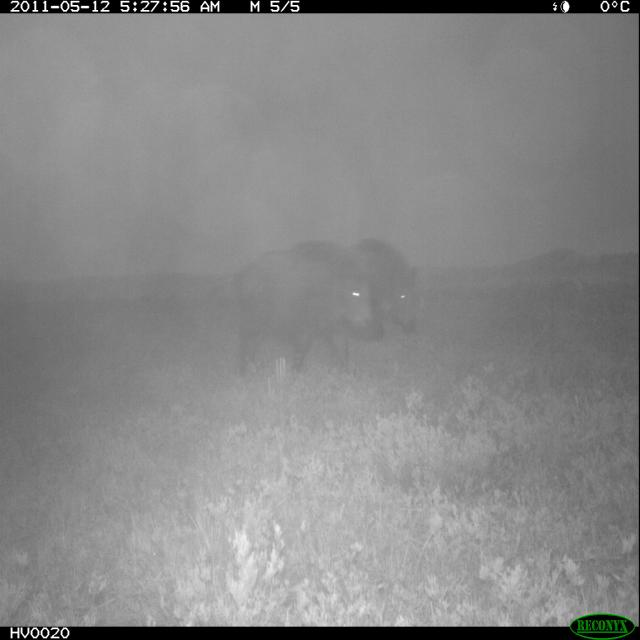boar: (218, 232, 400, 384), (279, 221, 438, 364)
